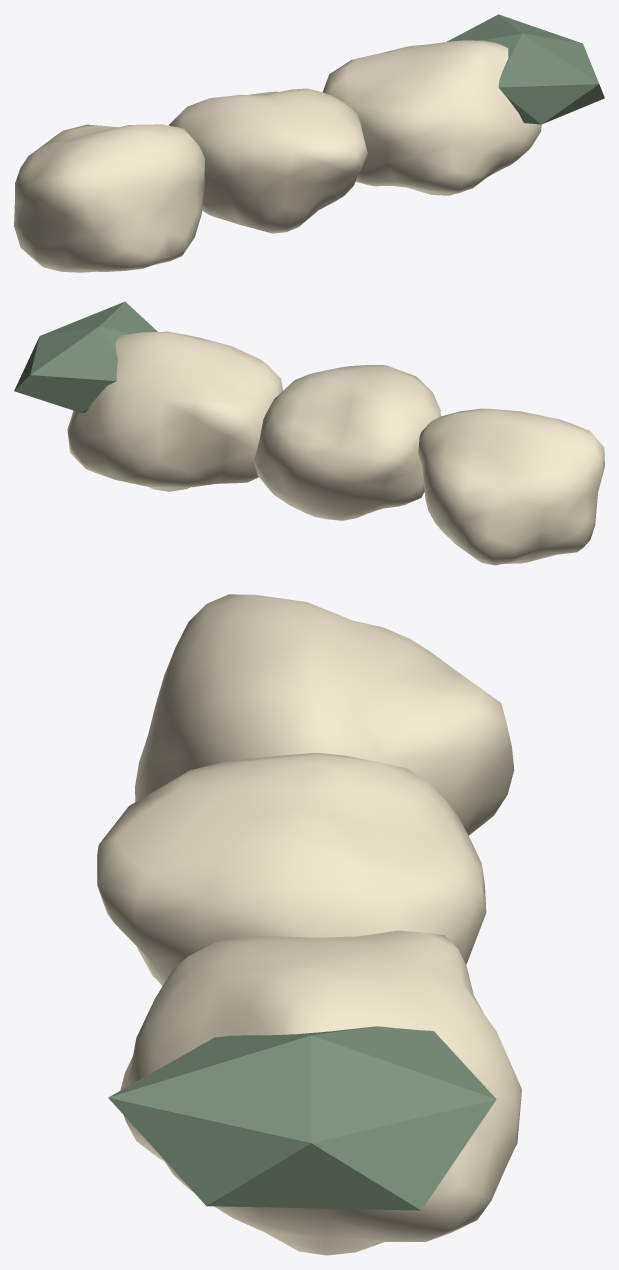
The model's file is bug_meat.glb.
3 views of the same model, one above another, from view 1: azimuth 30°, elevation 25°; view 2: azimuth 150°, elevation 25°; view 3: azimuth 270°, elevation 25° (orthographic). The views are drawn at different scales.
Parts seen in each view (by area): view 1: model; view 2: model; view 3: model.
Part boxes in pixels (bbox=[...]): model: bbox=[14, 14, 604, 272]; model: bbox=[14, 301, 604, 565]; model: bbox=[97, 594, 521, 1255].
Size of the model in its own units: 0.2674 by 0.0674 by 0.0892.
